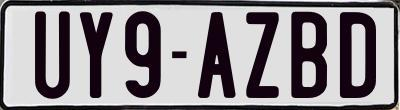9: (124, 10, 165, 102)
A: (198, 9, 237, 97)
B: (290, 10, 327, 98)
D: (339, 9, 379, 100)
U: (33, 8, 71, 100)
Y: (77, 11, 110, 102)
Z: (246, 9, 283, 96)
